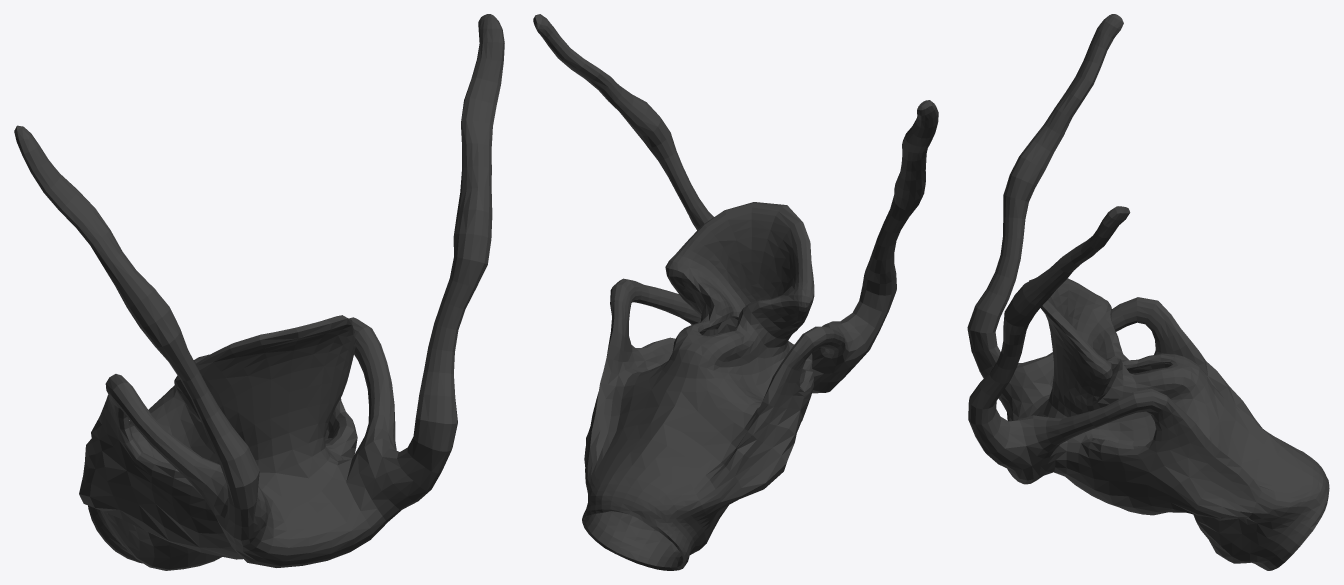
The model's file is larynx_LOW.glb.
3 renders of one model, left to right at view 1: azimuth 30°, elevation 25°; view 2: azimuth 150°, elevation 25°; view 3: azimuth 270°, elevation 25°, orthographic. The views are drawn at different scales.
Parts seen in each view (by area): view 1: larynx_LOW; view 2: larynx_LOW; view 3: larynx_LOW.
Boxes of the visible parts, x1=… form: larynx_LOW: x1=14, y1=14, x2=504, y2=570; larynx_LOW: x1=533, y1=14, x2=938, y2=570; larynx_LOW: x1=967, y1=14, x2=1329, y2=570.
Size of the model in its own units: 0.00477 by 0.00528 by 0.00382.
1 material, 1 textured.
